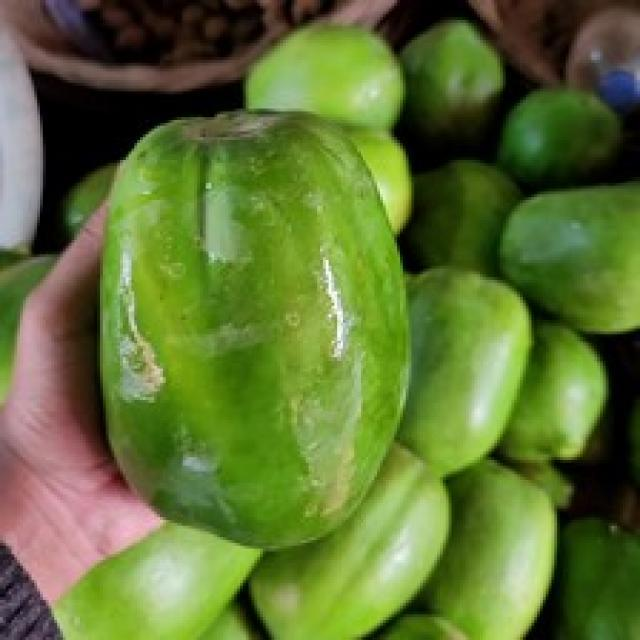Pepaya unrippen: (92, 96, 429, 561)
